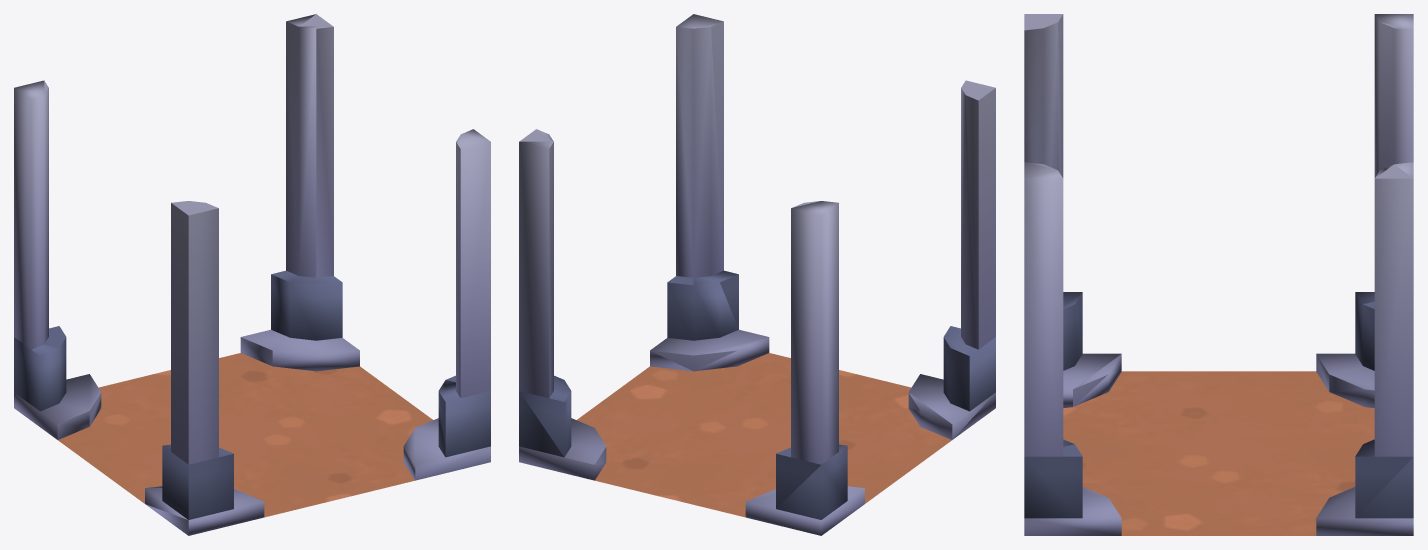
File: corridor-intersection.fbx
3 renders of one model, left to right at view 1: azimuth 30°, elevation 25°; view 2: azimuth 150°, elevation 25°; view 3: azimuth 270°, elevation 25°, orthographic. The views are drawn at different scales.
Parts seen in each view (by area): view 1: corridor-intersection; view 2: corridor-intersection; view 3: corridor-intersection.
Part boxes in pixels (x1,y1,x2,y2): corridor-intersection: (14,14,490,535); corridor-intersection: (519,14,995,535); corridor-intersection: (1024,14,1413,535).
Bounding box in the file's own units: 400 × 405 × 400.
